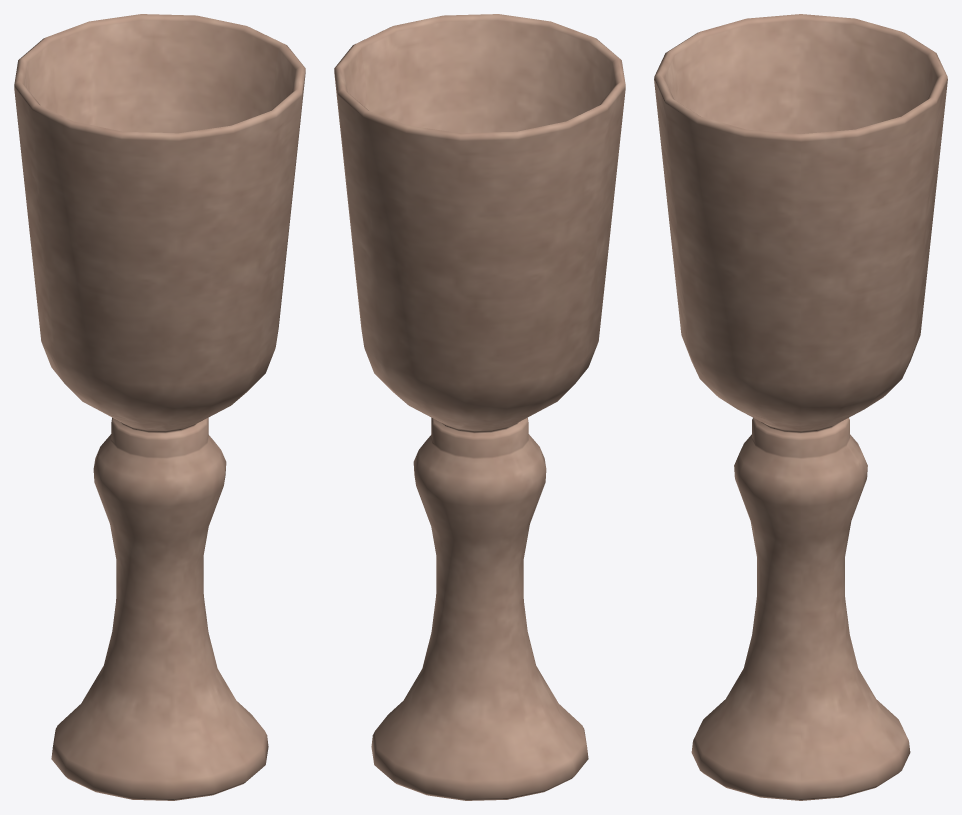
Rendered from Cup_B.fbx.
3 views of the same model, side by side, from view 1: azimuth 30°, elevation 25°; view 2: azimuth 150°, elevation 25°; view 3: azimuth 270°, elevation 25° (orthographic).
Visible parts, largest first — view 1: Cup_B; view 2: Cup_B; view 3: Cup_B.
Boxes of the visible parts, x1=… form: Cup_B: x1=14, y1=14, x2=305, y2=800; Cup_B: x1=334, y1=14, x2=625, y2=800; Cup_B: x1=654, y1=14, x2=947, y2=800.
Size of the model in its own units: 0.1259 by 0.3225 by 0.1259.
